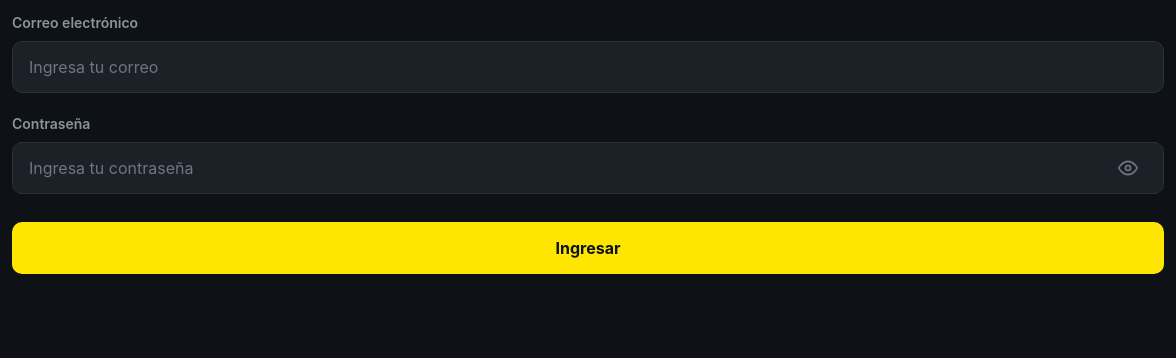
it: LoginForm › Submit › clears error on new submit attempt
Type "test@example.com" into the field labelled "Correo electrónico" at (588, 67), box [12,41,1164,93]
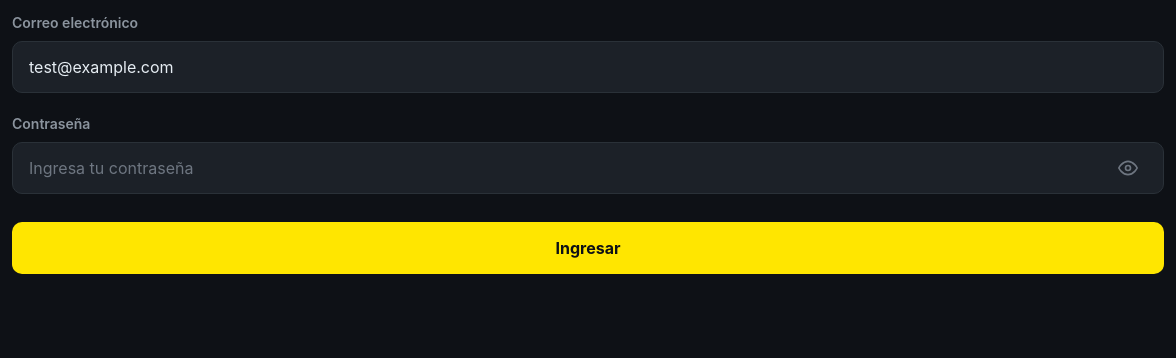
Type "password123" into the password field labelled "Contraseña" at (588, 168), box [12,142,1164,194]
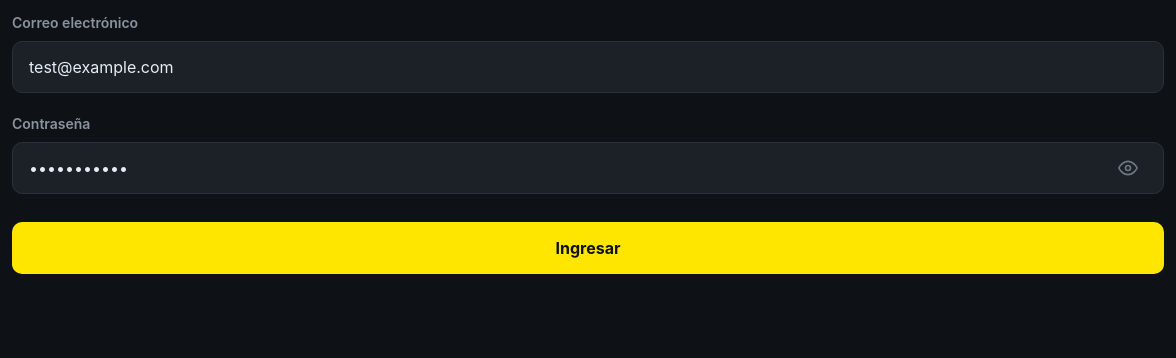
Click the button "Ingresar" at (588, 248), box [12,222,1164,274]
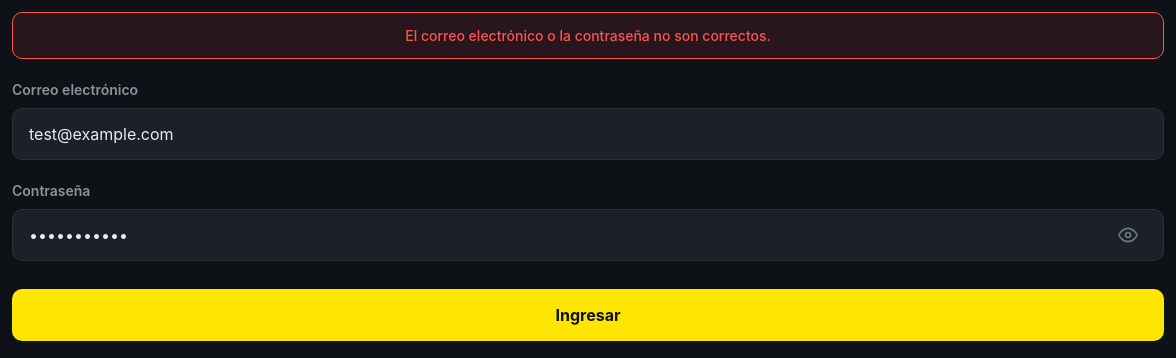
Now the message reads "El correo electrónico o la contraseña no son correctos.", box [405,27,771,44]
Click the button "Ingresar" at (588, 315), box [12,289,1164,341]
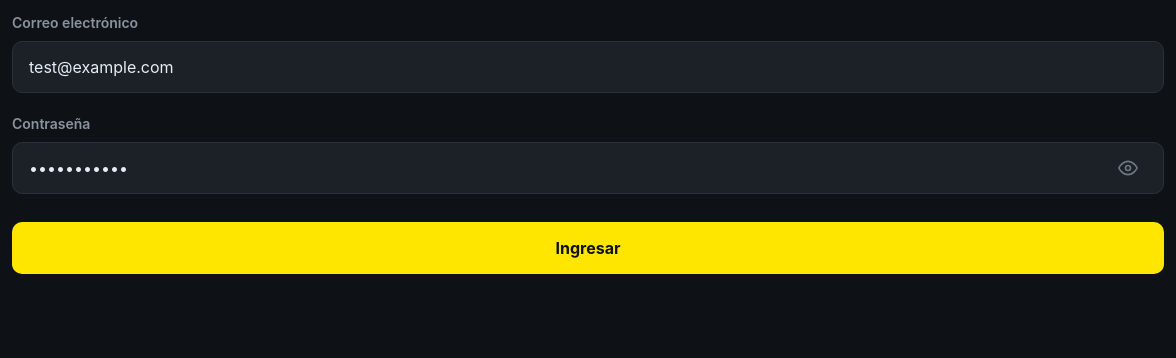
Now the message "El correo electrónico o la contraseña no son correctos." is gone
